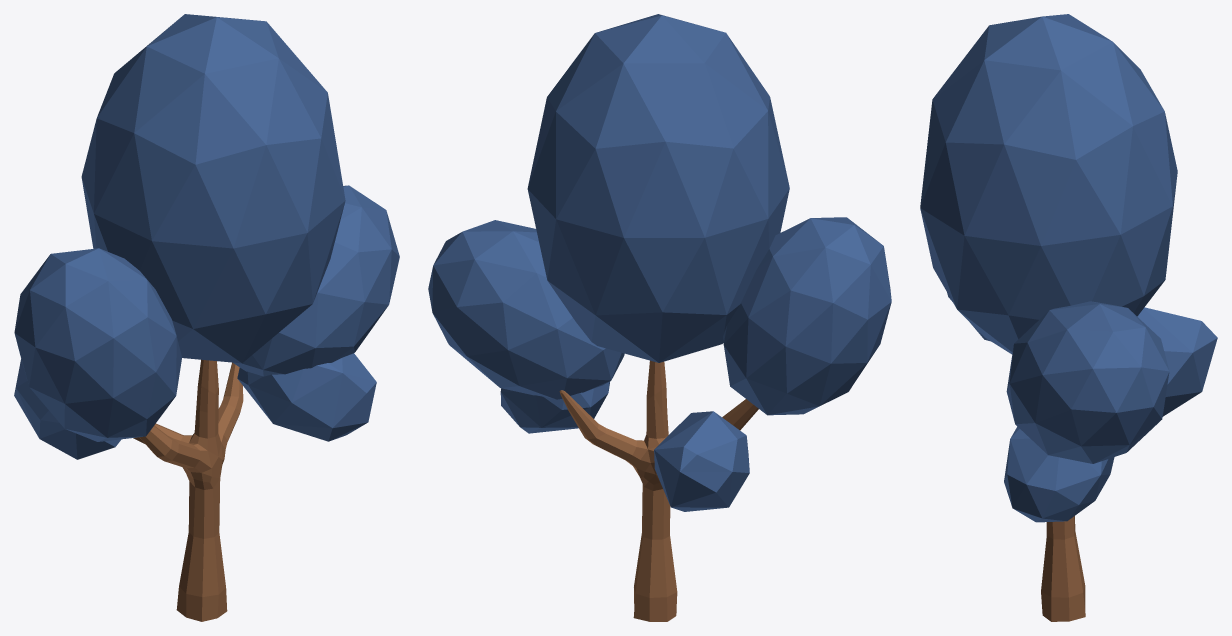
Rendered from tree-winter-complete-10-002.glb.
The picture shows the model from 3 angles, left to right: view 1: azimuth 30°, elevation 25°; view 2: azimuth 150°, elevation 25°; view 3: azimuth 270°, elevation 25°; orthographic projection.
Parts seen in each view (by area): view 1: TREE 10.005_185, TREE 10.004_186; view 2: TREE 10.005_185, TREE 10.004_186; view 3: TREE 10.005_185, TREE 10.004_186.
Part boxes in pixels (box(x1,y1,x2,y2)): TREE 10.005_185: box(14, 14, 399, 459); TREE 10.004_186: box(133, 359, 243, 621); TREE 10.005_185: box(428, 14, 891, 511); TREE 10.004_186: box(559, 360, 758, 621); TREE 10.005_185: box(920, 14, 1217, 522); TREE 10.004_186: box(1041, 516, 1085, 621).
Bounding box in the file's own units: 1.19 × 1.67 × 0.7525.
